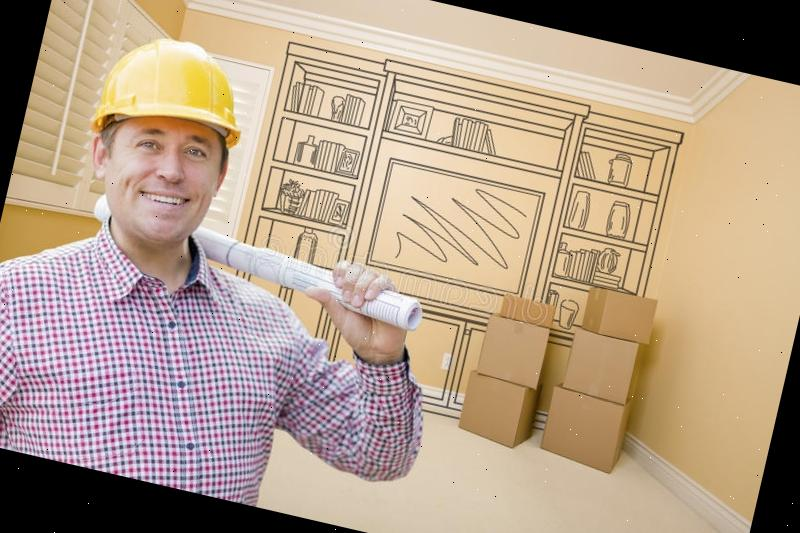helmet: (87, 23, 260, 166)
no_wear: (0, 222, 311, 508)
